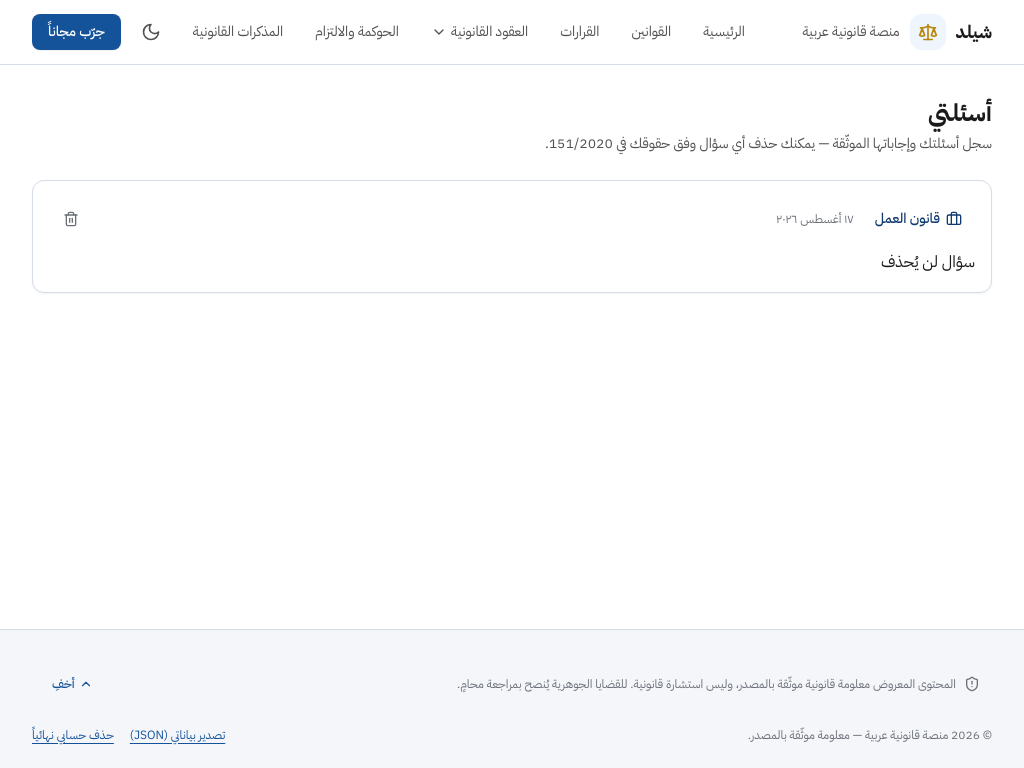
Test: MyQuestionsPage › عند فشل حذف backend (شبكة/403) يُبقي العنصر ويعرض خطأً واضحاً
The width and height of the screenshot is (1024, 768).
Check: the text "سؤال لن يُحذف" is shown, box [881,250,975,274]
Click the button named "حذف السؤال: سؤال لن يُحذف" at coordinates (71, 219), box [49,197,93,241]
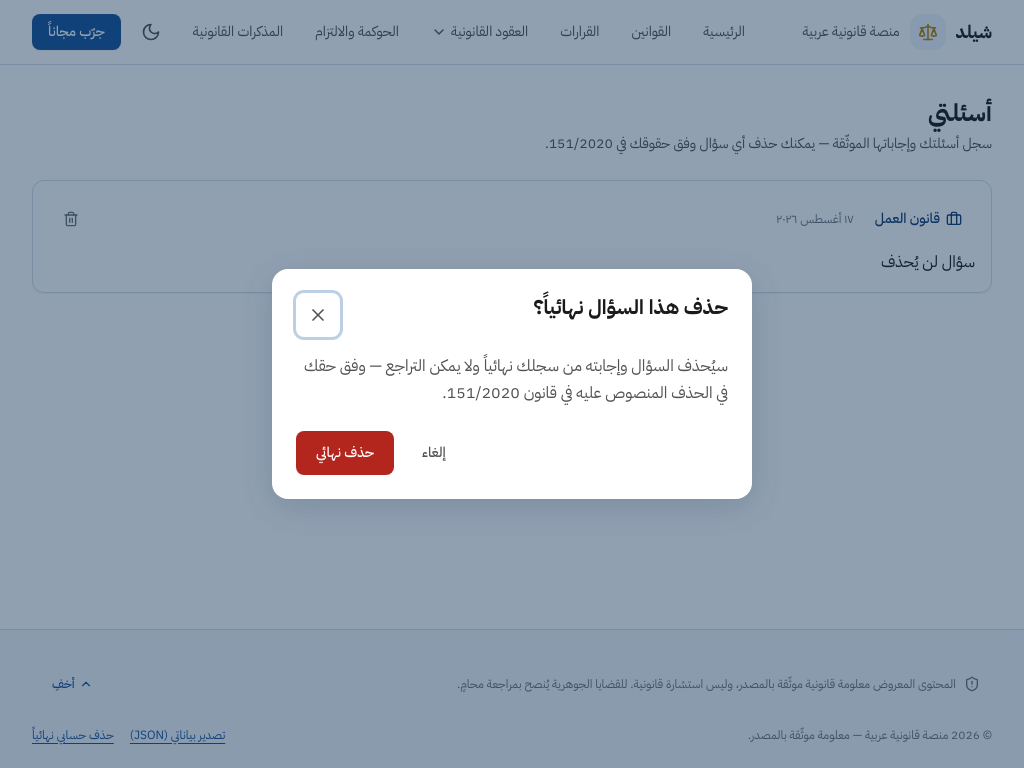
Click the button "حذف نهائي" at coordinates (345, 453), box [296,431,394,475]
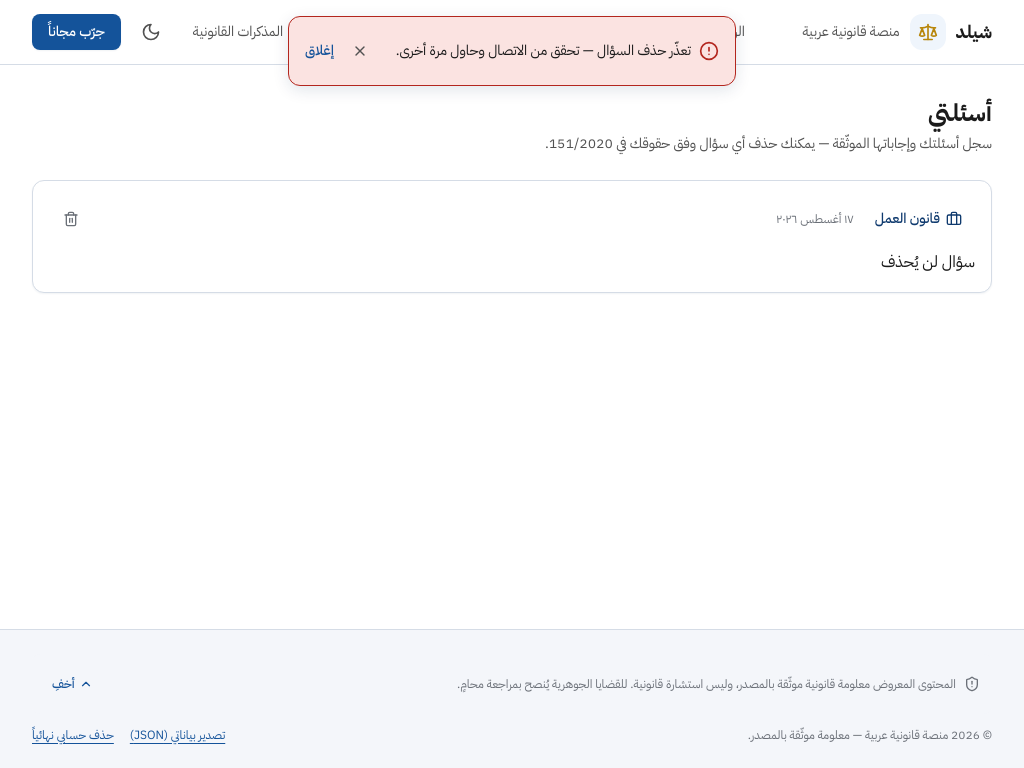
Check: the text "سؤال لن يُحذف" is shown, box [881,250,975,274]
Check: the message shows "تعذّر حذف السؤال", box [396,40,691,61]
